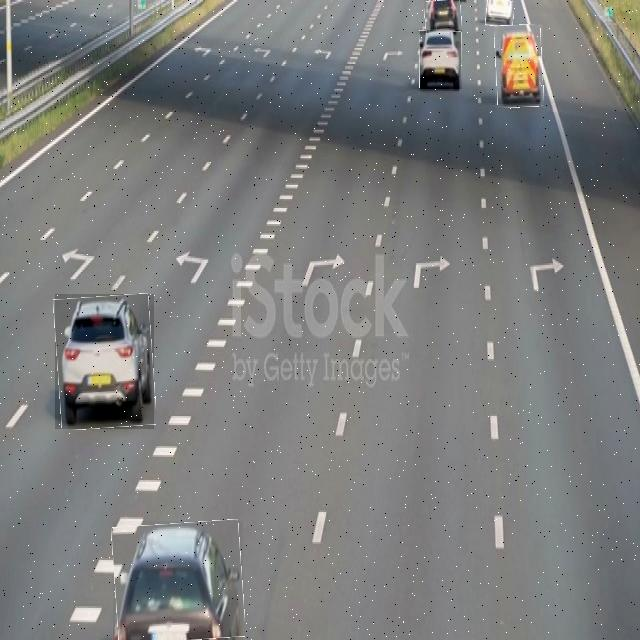Car: (113, 521, 243, 640), (55, 294, 154, 429), (420, 30, 462, 89), (424, 0, 461, 32), (485, 0, 513, 26)
Truck: (495, 25, 543, 107)
